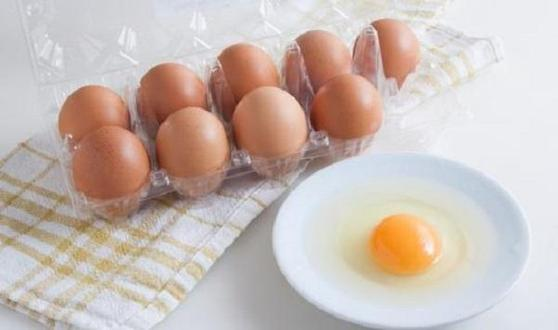egg: (68, 123, 148, 201), (232, 83, 306, 164), (153, 103, 229, 180), (308, 74, 381, 140)
